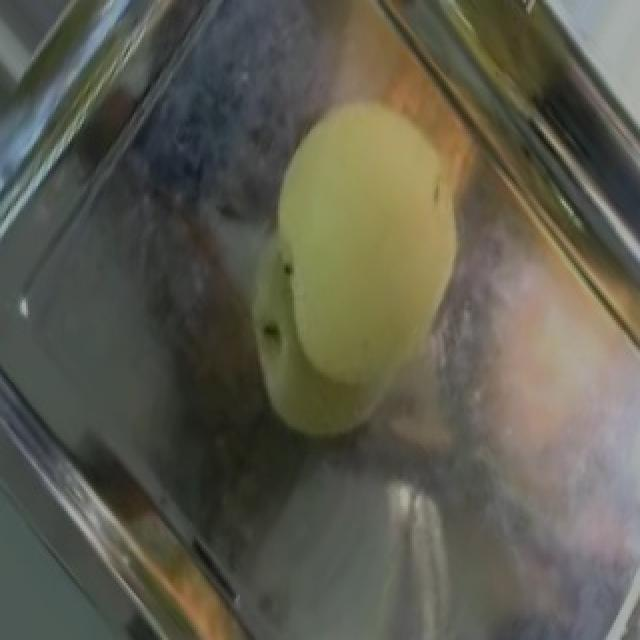Fruit: (226, 0, 518, 392)
